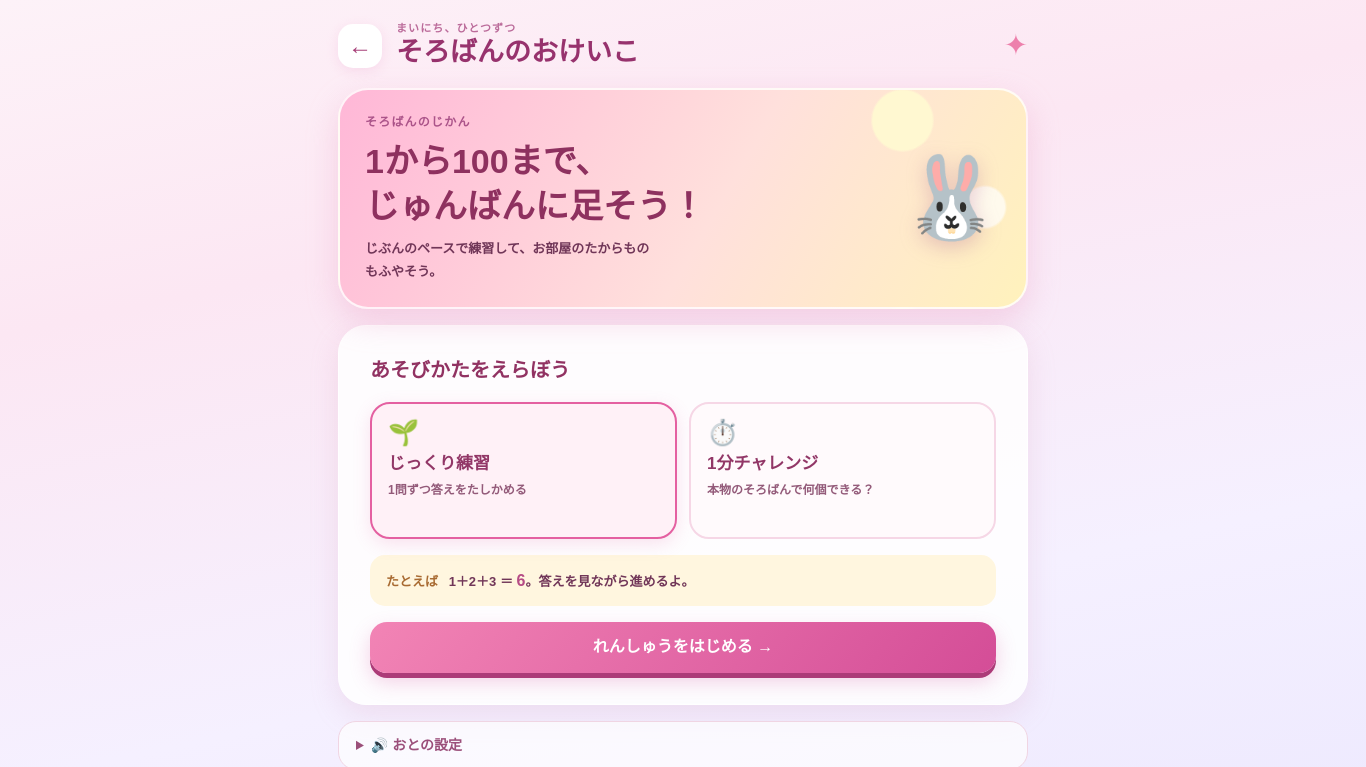
Test: 学習画面 › 練習を記録せず取り消したときはコールバックも報酬も発生しない
Click the button "れんしゅうをはじめる →" at (683, 648), box [370, 622, 996, 673]
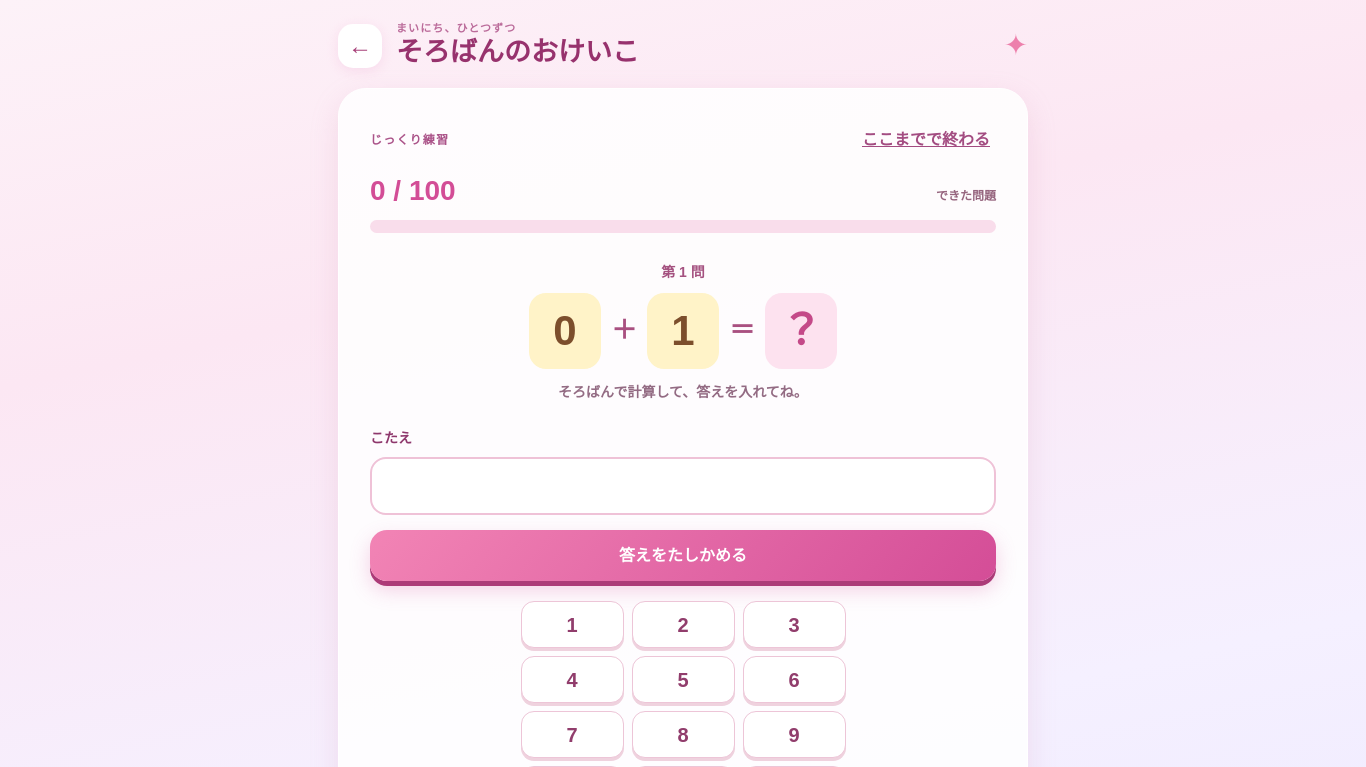
Type "1" into the field labelled "こたえ" at (683, 486), box [370, 457, 996, 515]
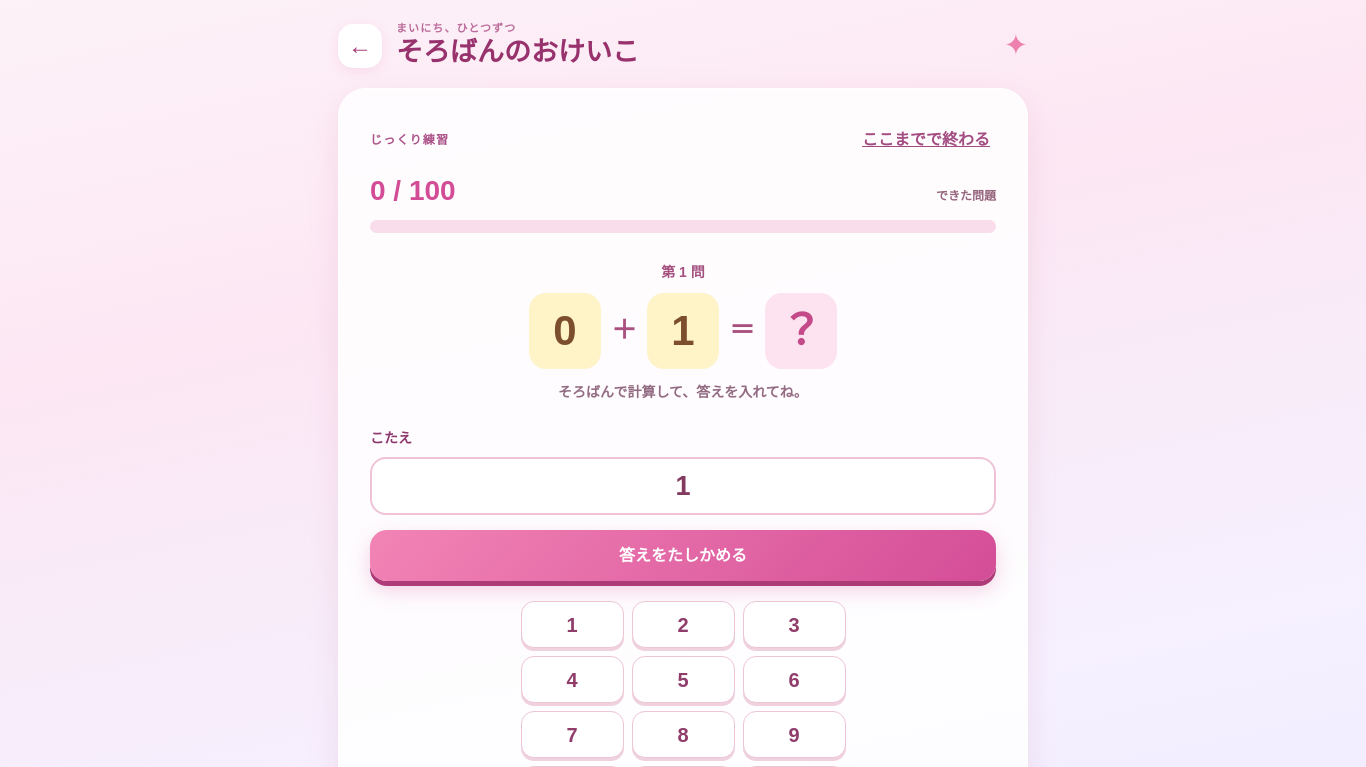
Click the button "答えをたしかめる" at (683, 556), box [370, 530, 996, 581]
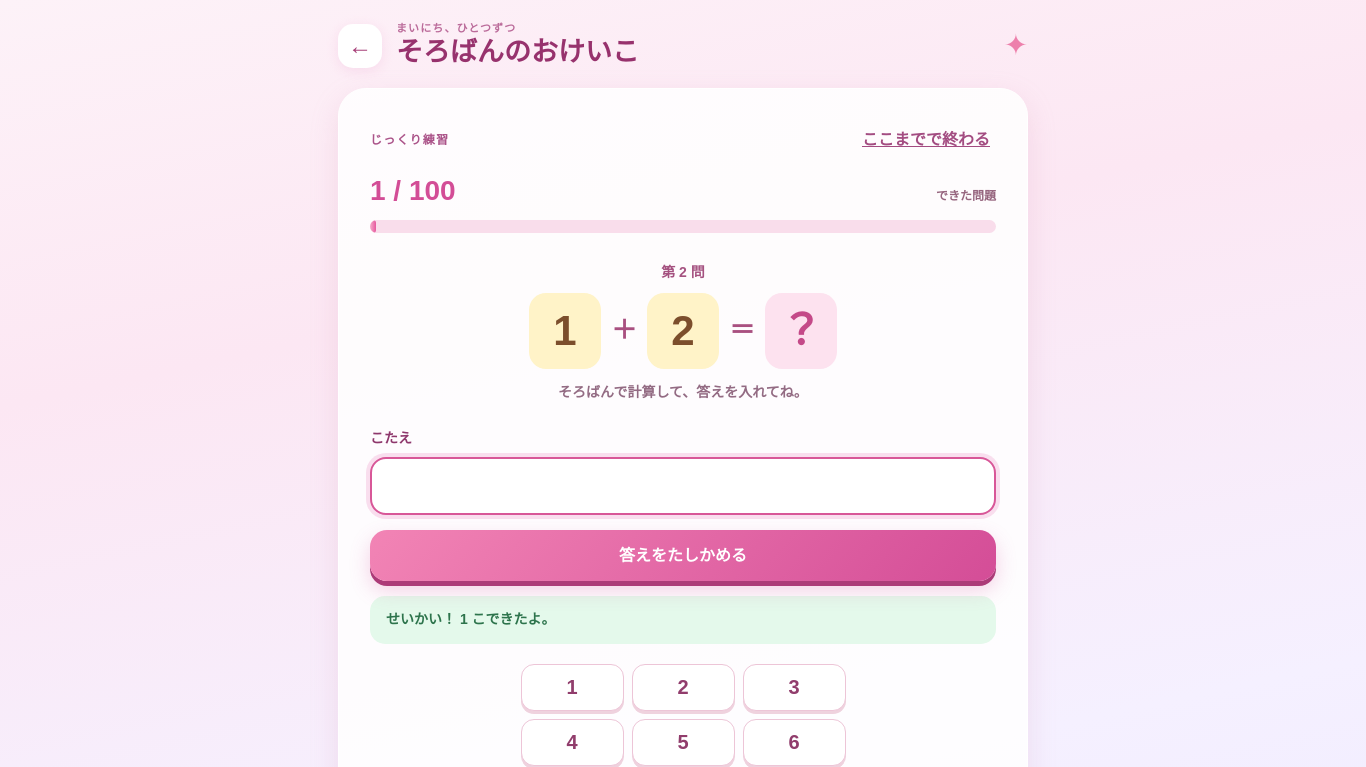
Click the button "ここまでで終わる" at (926, 140), box [856, 120, 996, 160]
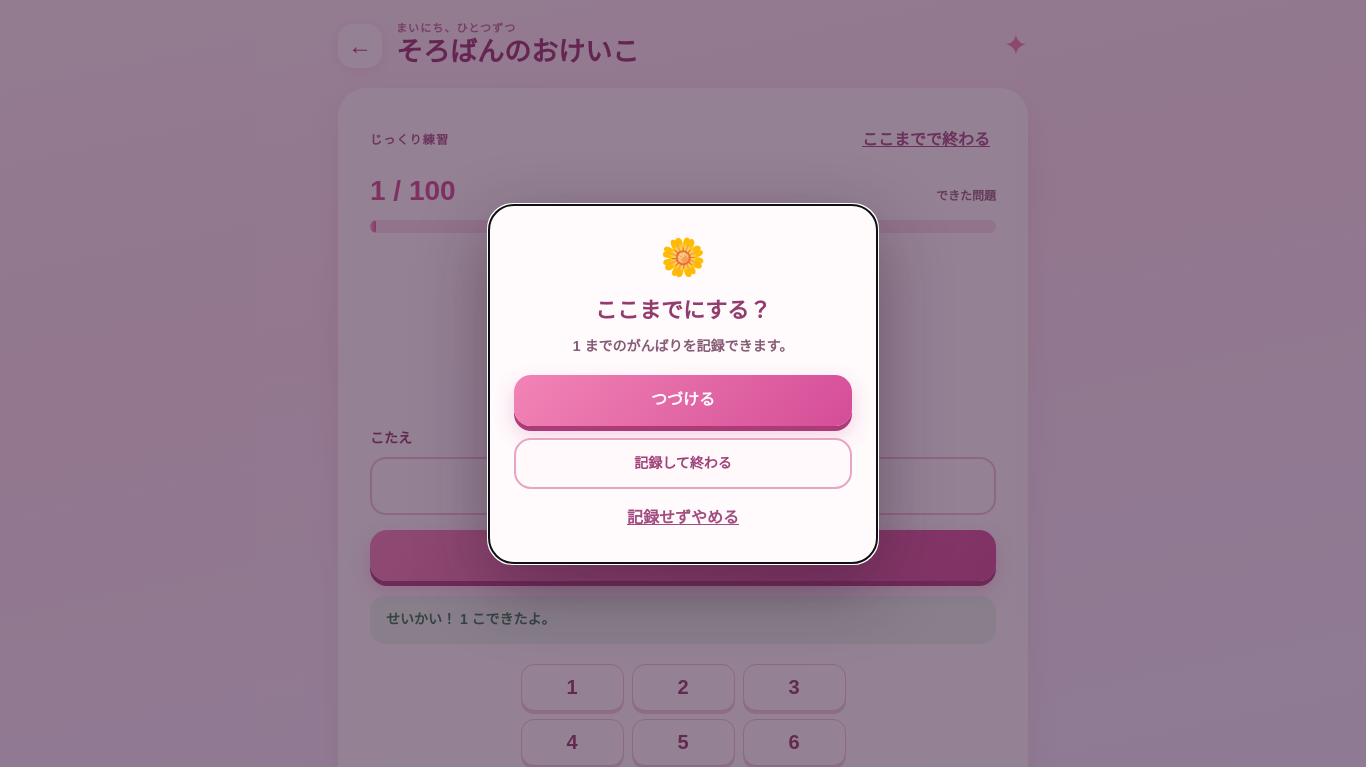
Click the button "記録せずやめる" at (683, 518), box [621, 498, 745, 538]
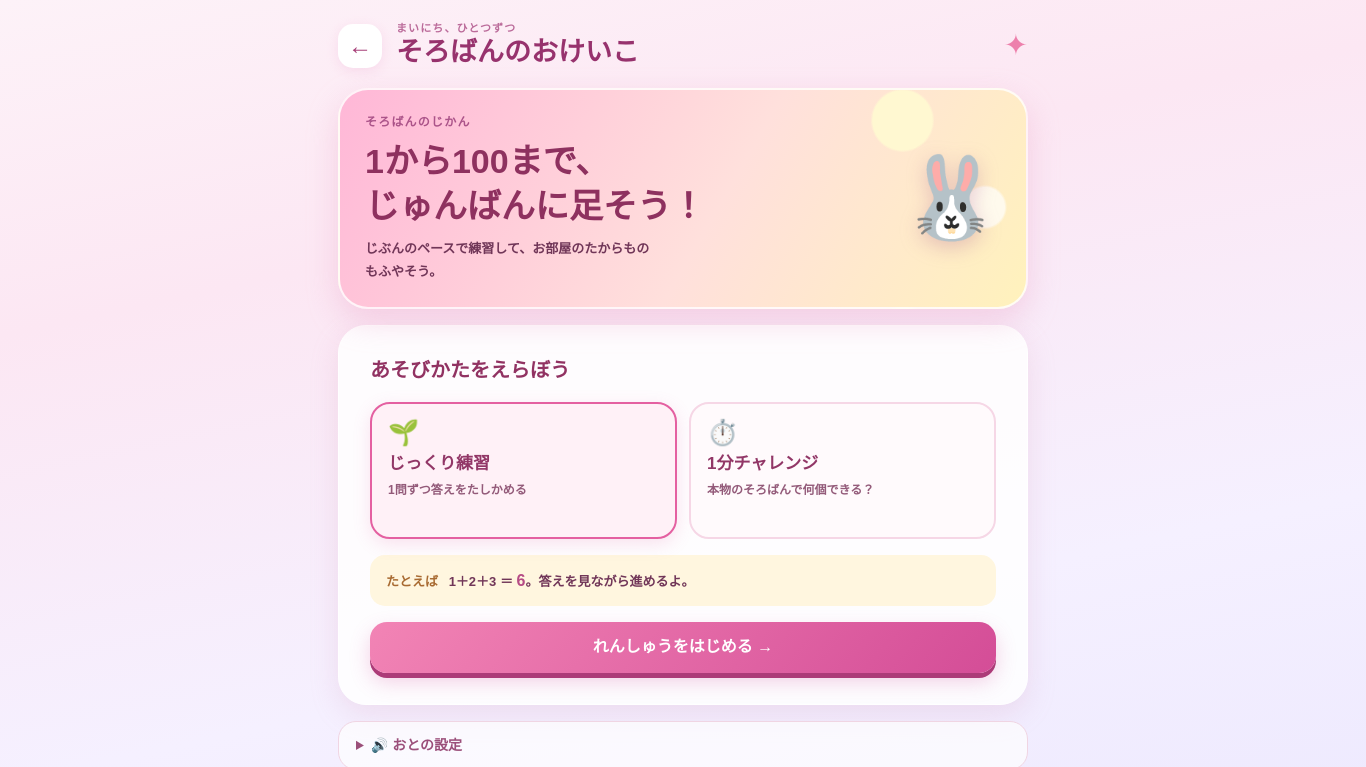
Expected: the heading "あそびかたをえらぼう" is shown, [370, 359, 570, 381]
